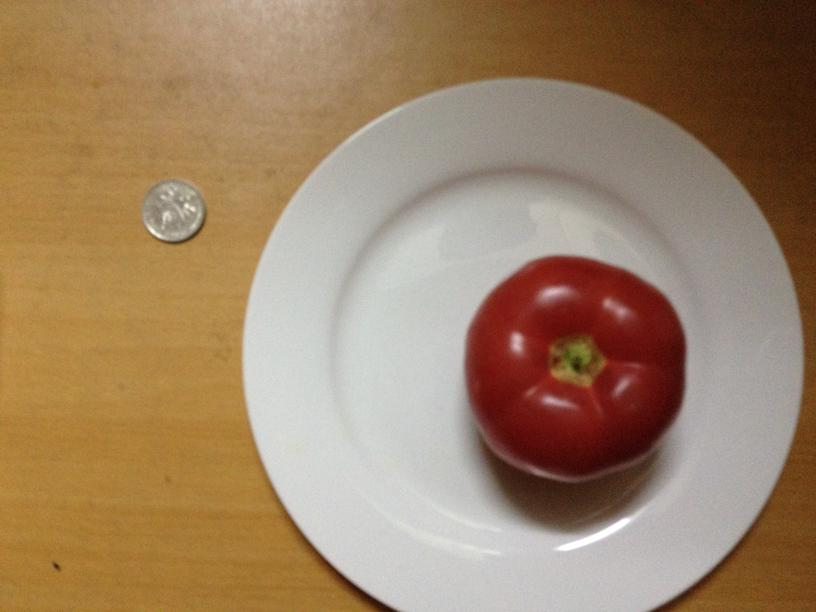coin: (138, 180, 206, 243)
tomato: (455, 255, 687, 481)
